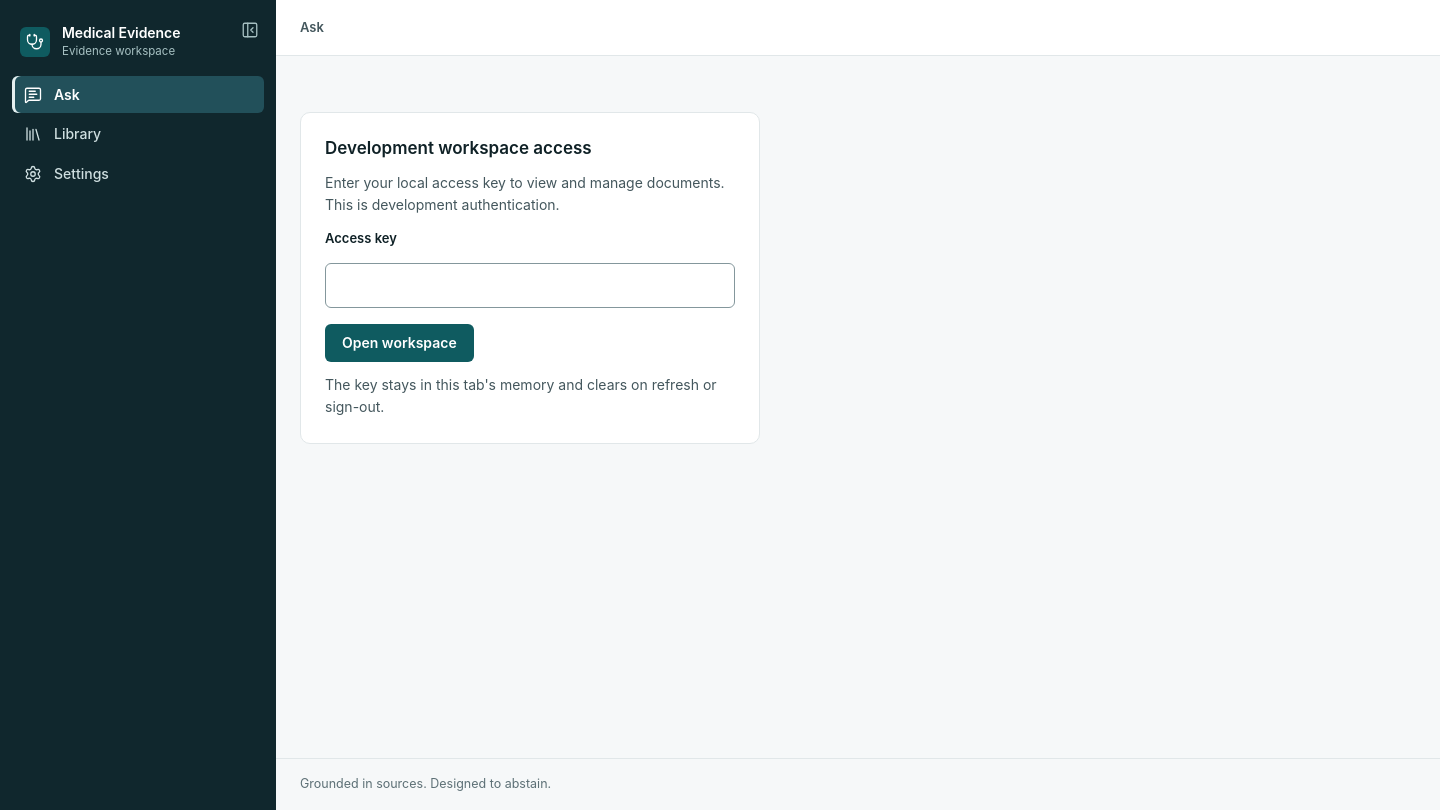
it: renders a verified answer with its citations and sources
Type "test-key" into the password field labelled "Access key".
click(530, 285); type("test-key")  # box 325,263 -> 735,308
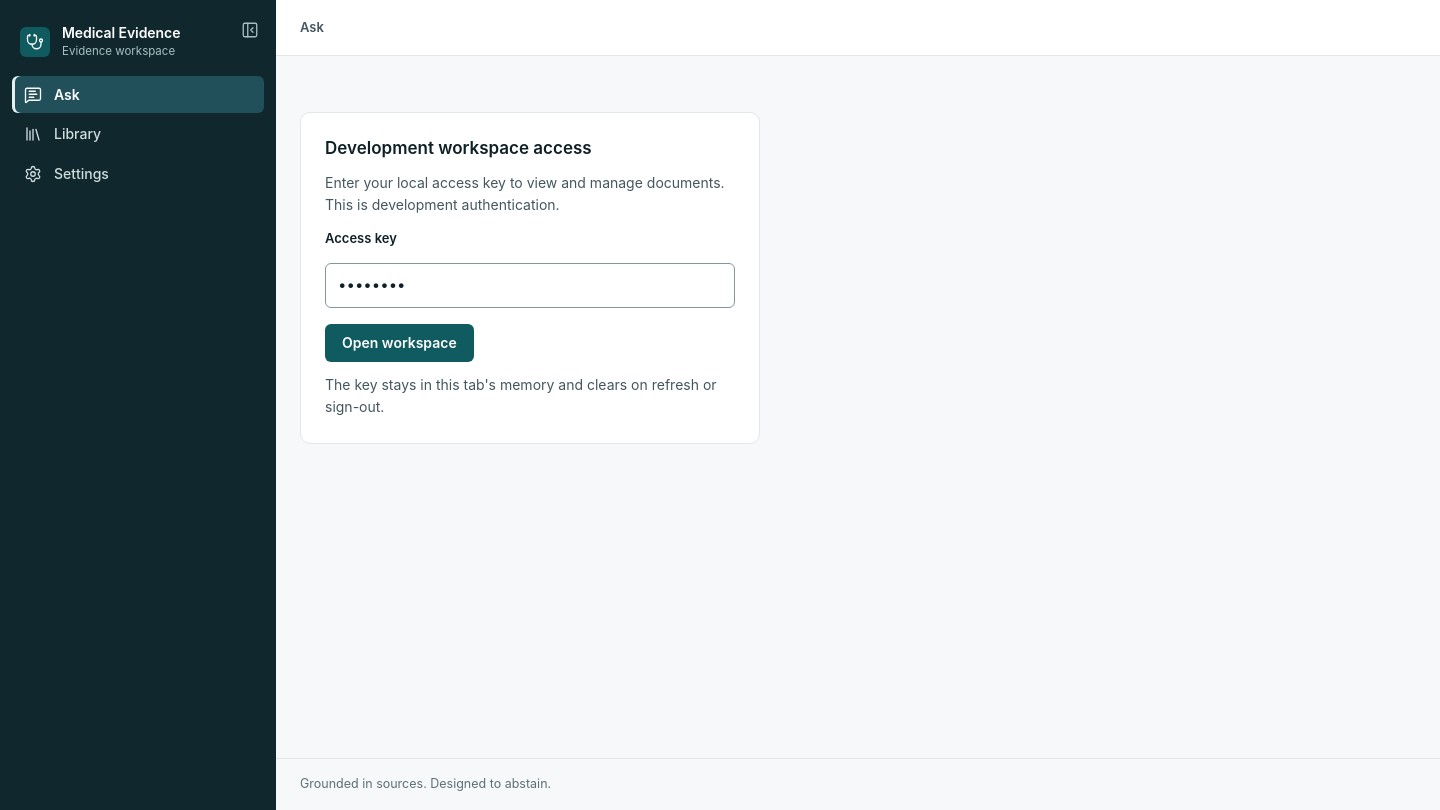
Click the button "Open workspace".
click(399, 343)  # box 325,324 -> 474,362
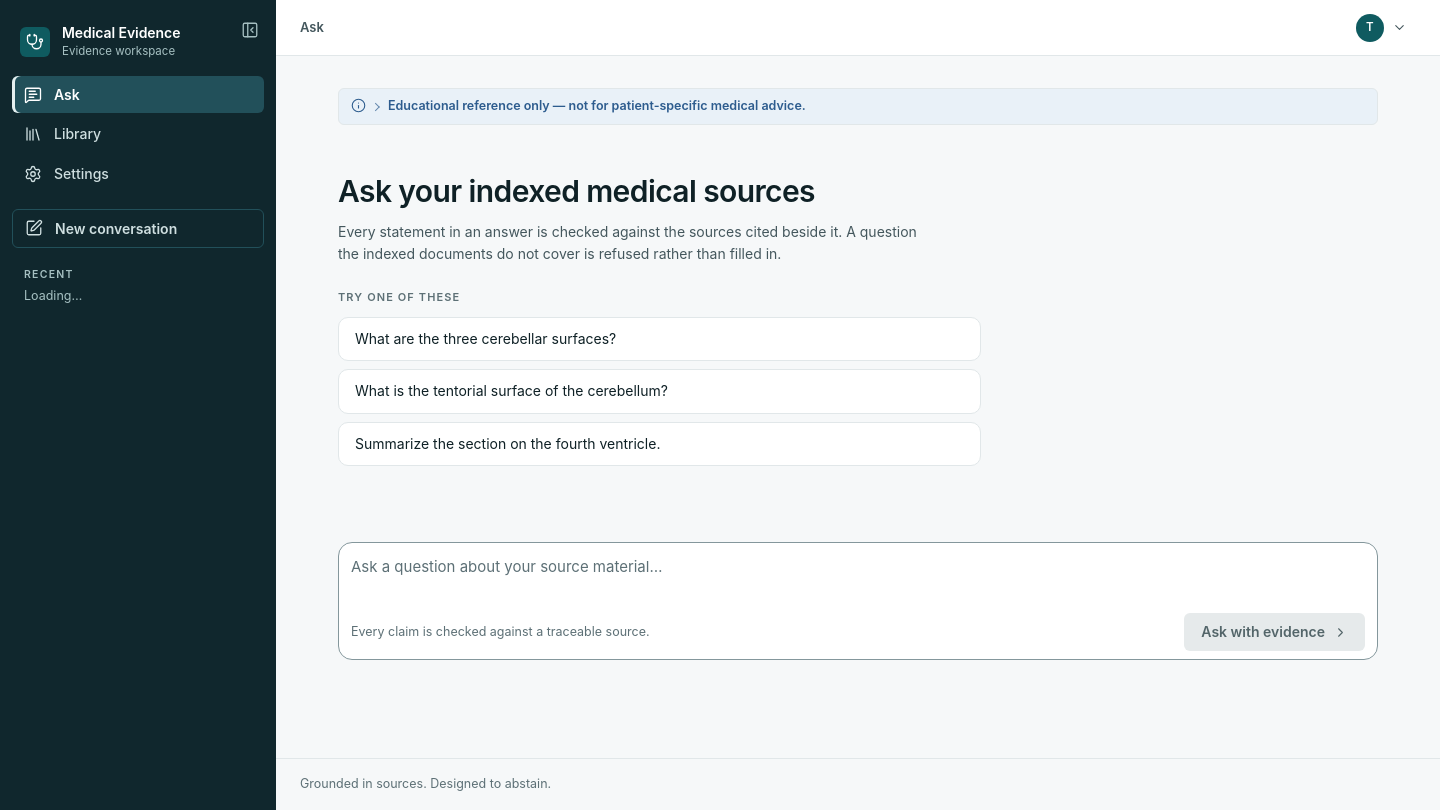
Expected: the text box named "Your educational medical question" is shown
Type "HLA-B27?" into the text box named "Your educational medical question".
click(858, 580); type("HLA-B27?")  # box 351,555 -> 1365,605
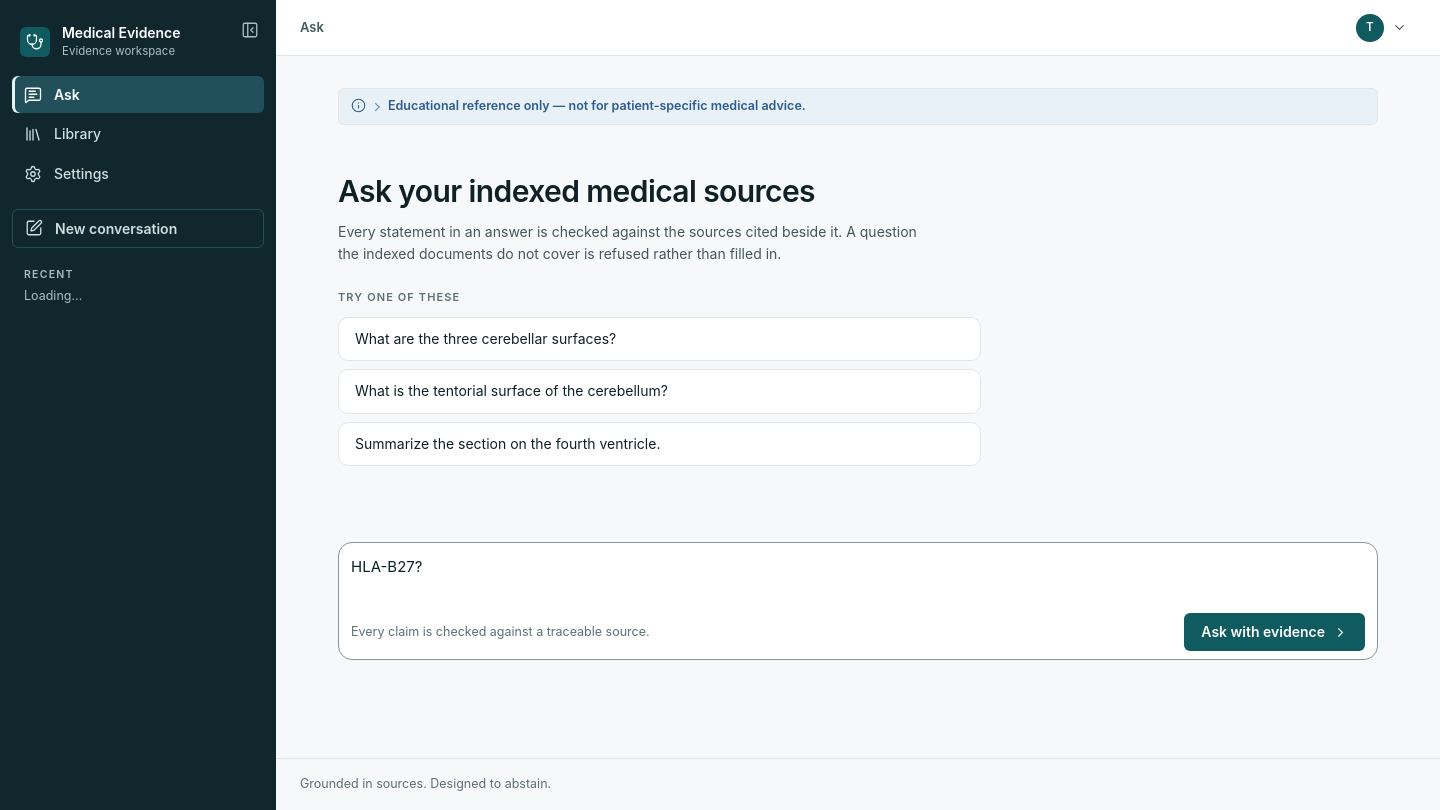
Click the button "Ask with evidence".
click(1275, 632)  # box 1184,613 -> 1365,651
(page scrolled)
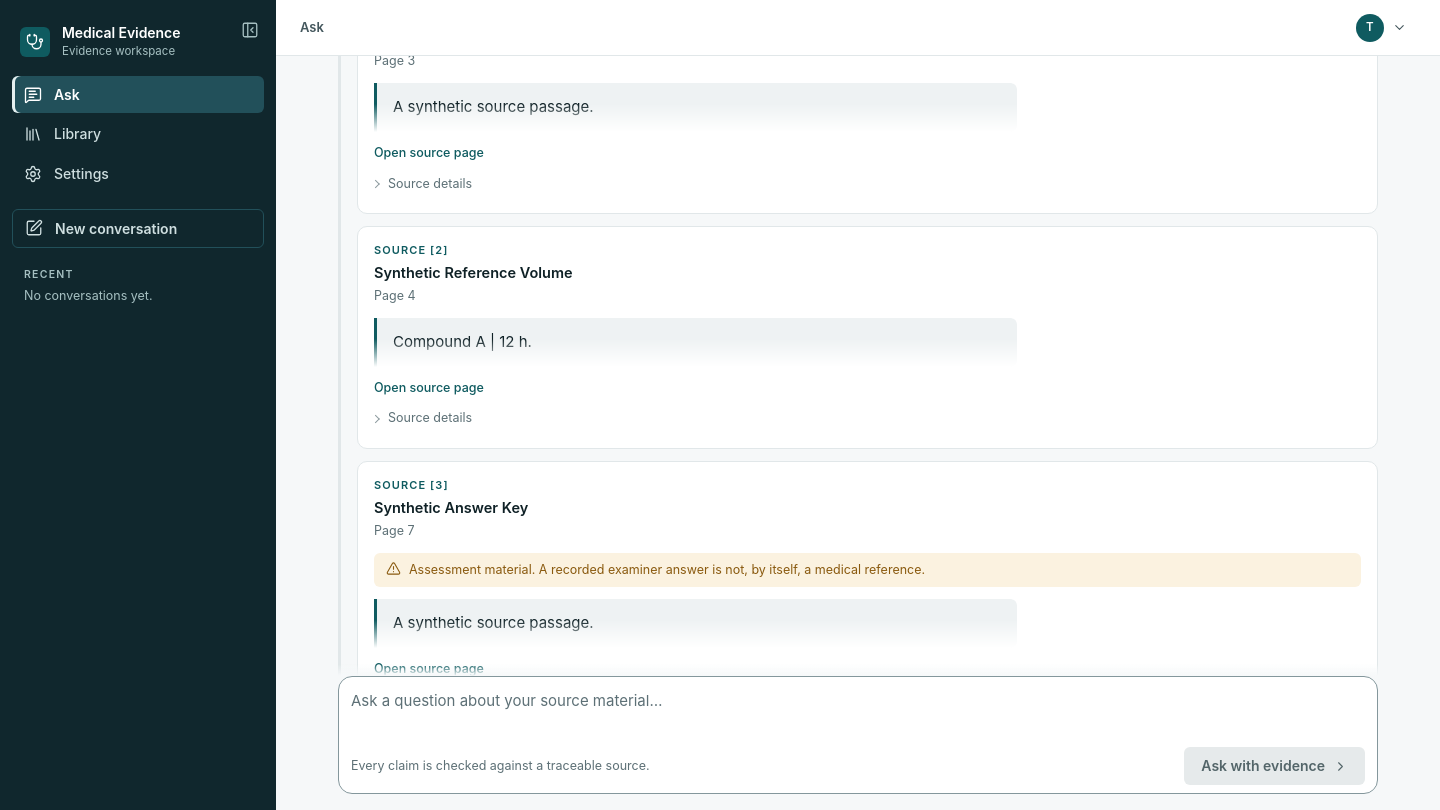
Expected: the text "Page 3" is shown, 374,53 -> 415,68
Expected: the text "A synthetic source passage." below "Page 3" is shown, 393,97 -> 594,116
